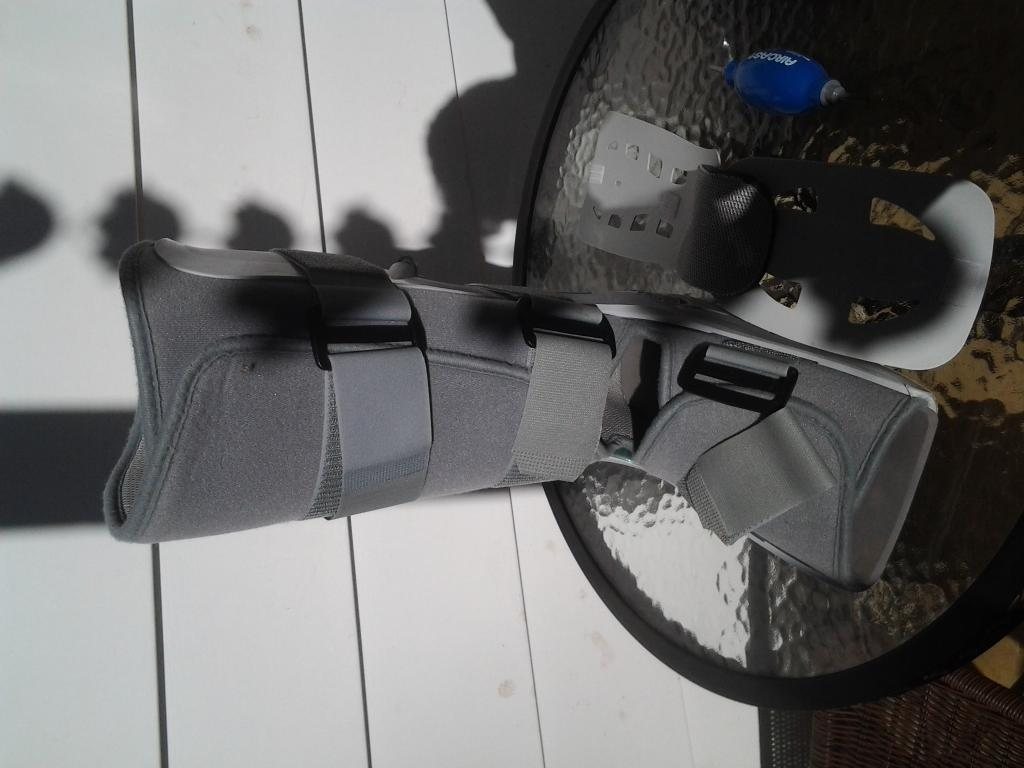person: (331, 195, 400, 263)
